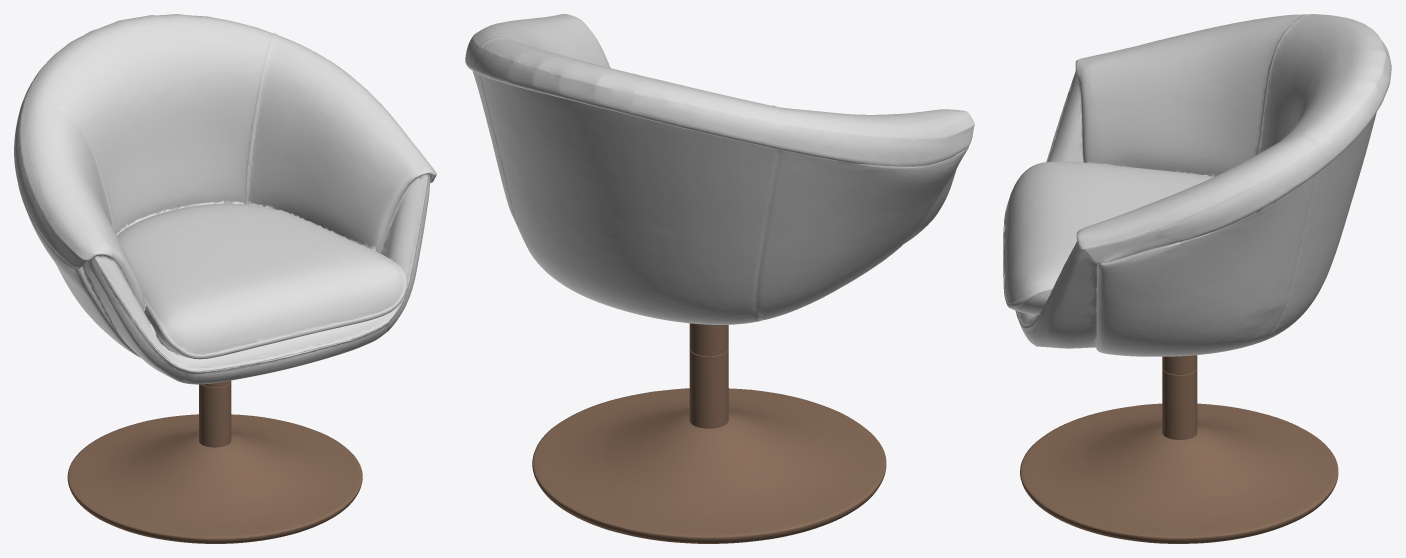
The model's file is St_Hilker_Body_and_Soul.glb.
The picture shows the model from 3 angles, left to right: view 1: azimuth 30°, elevation 25°; view 2: azimuth 150°, elevation 25°; view 3: azimuth 270°, elevation 25°; orthographic projection. The views are drawn at different scales.
Visible parts, largest first — view 1: Body and Soul; view 2: Body and Soul; view 3: Body and Soul.
Part boxes in pixels (<box>): Body and Soul: <box>14,14,436,543</box>; Body and Soul: <box>465,14,974,543</box>; Body and Soul: <box>1003,14,1391,543</box>.
Bounding box in the file's own units: 0.9273 × 0.979 × 0.8019.
